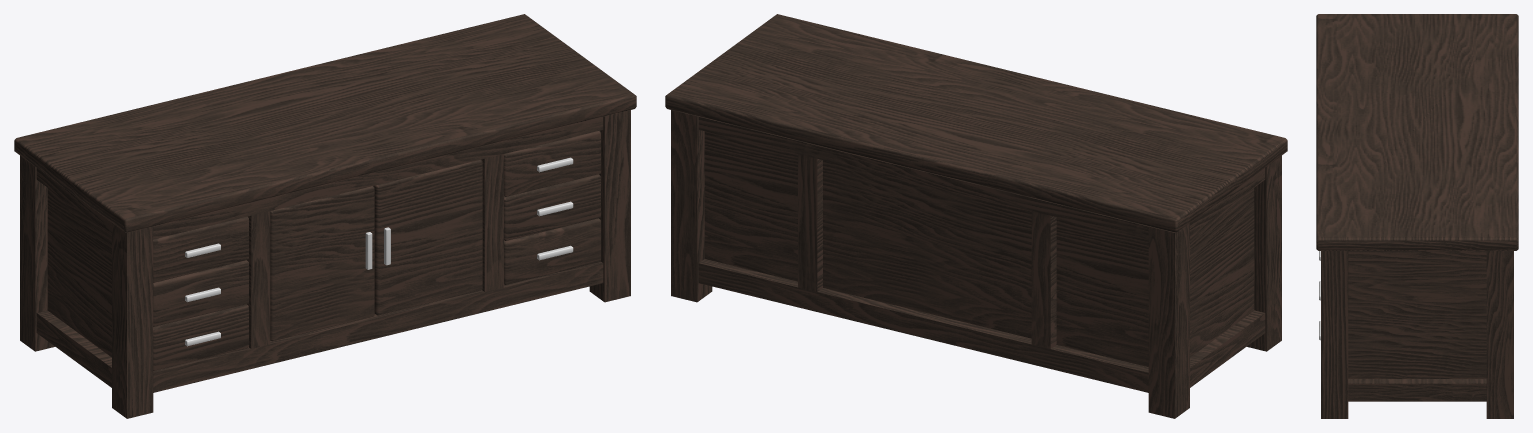
Rendered from dresser_033.fbx.
The picture shows the model from 3 angles, left to right: view 1: azimuth 30°, elevation 25°; view 2: azimuth 150°, elevation 25°; view 3: azimuth 270°, elevation 25°; orthographic projection. The views are drawn at different scales.
Visible parts, largest first — view 1: dresser_033; view 2: dresser_033; view 3: dresser_033.
Boxes of the visible parts, x1,y1,x2,y2 form: dresser_033: (14,14,636,418); dresser_033: (665,14,1287,418); dresser_033: (1316,14,1518,418).
Bounding box in the file's own units: 278 × 106 × 105.
